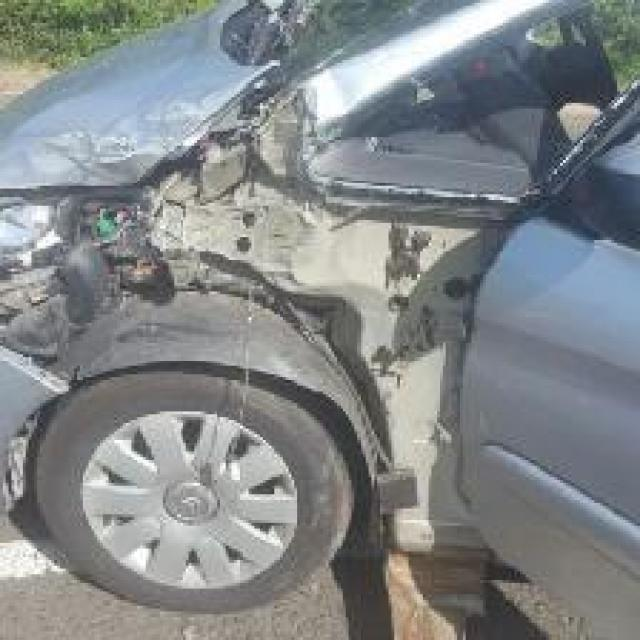damaged: (0, 68, 491, 454)
